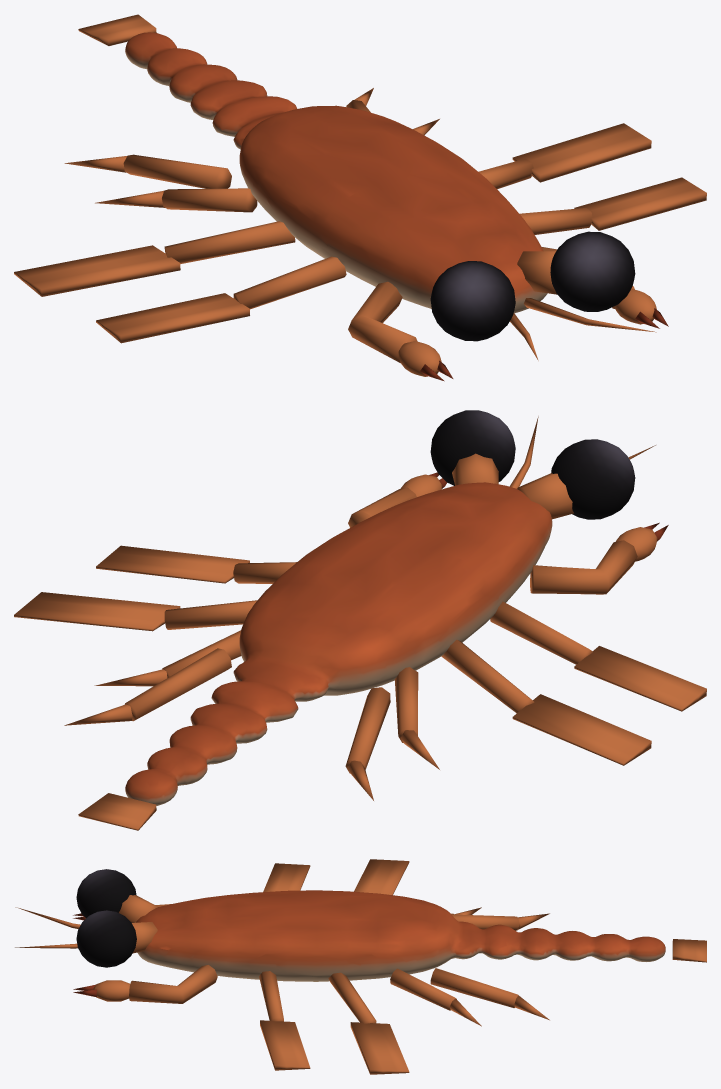
The model's file is Callichimaera.fbx.
The picture shows the model from 3 angles, top to bottom: view 1: azimuth 30°, elevation 25°; view 2: azimuth 150°, elevation 25°; view 3: azimuth 270°, elevation 25°; orthographic projection. The views are drawn at different scales.
Parts seen in each view (by area): view 1: Callichimaera; view 2: Callichimaera; view 3: Callichimaera.
Part boxes in pixels (left/top/right/bottom): Callichimaera: left=14, top=14, right=706, bottom=381; Callichimaera: left=14, top=410, right=706, bottom=830; Callichimaera: left=15, top=859, right=706, bottom=1074.
Bounding box in the file's own units: 1.02 × 0.174 × 1.42.
